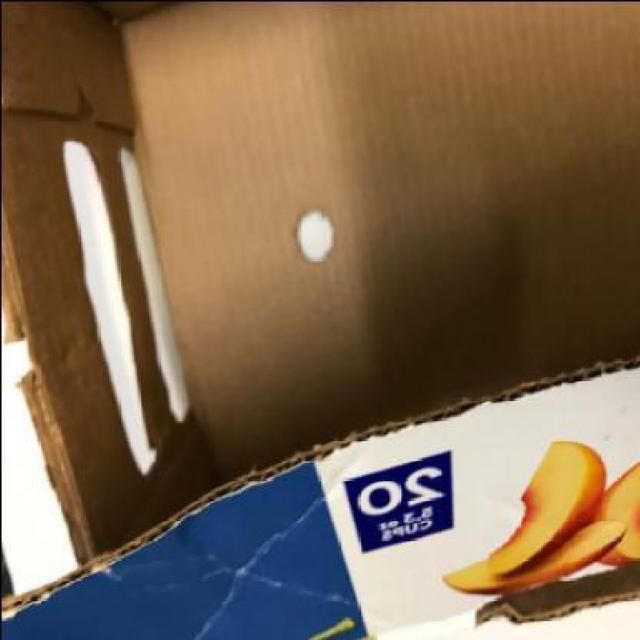box: (1, 0, 640, 638), (1, 353, 640, 638)
